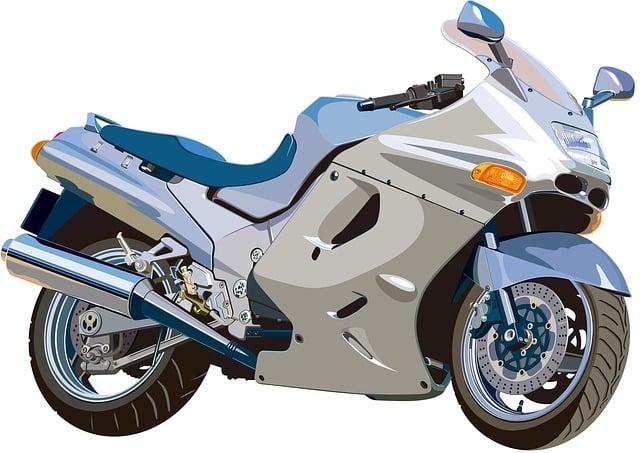Non_Gorille: (10, 9, 640, 453)
